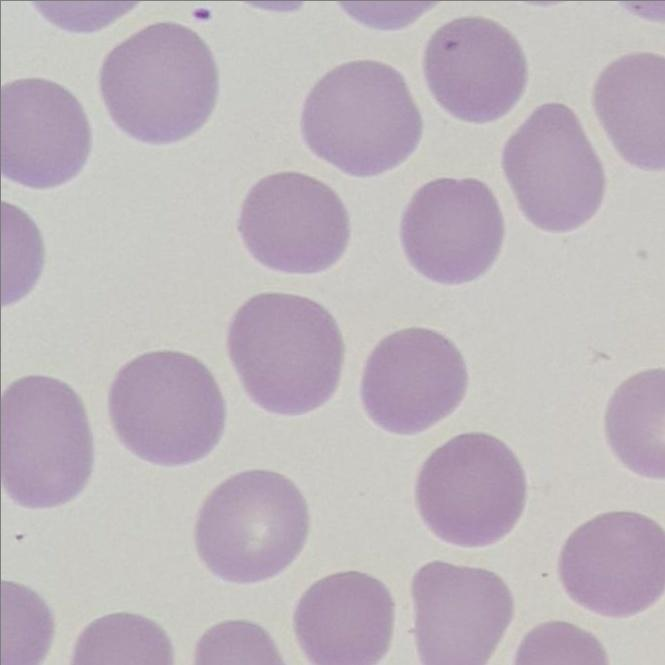Uninfected: (102, 21, 215, 147), (110, 351, 227, 470), (302, 61, 418, 180), (502, 104, 603, 236), (415, 431, 528, 548), (232, 292, 339, 414), (360, 324, 472, 438), (198, 471, 304, 585), (2, 374, 91, 509), (234, 173, 355, 272), (558, 509, 665, 613), (400, 181, 503, 289), (422, 17, 526, 123), (412, 557, 509, 665), (0, 81, 92, 187), (295, 569, 392, 665), (587, 54, 665, 165)
